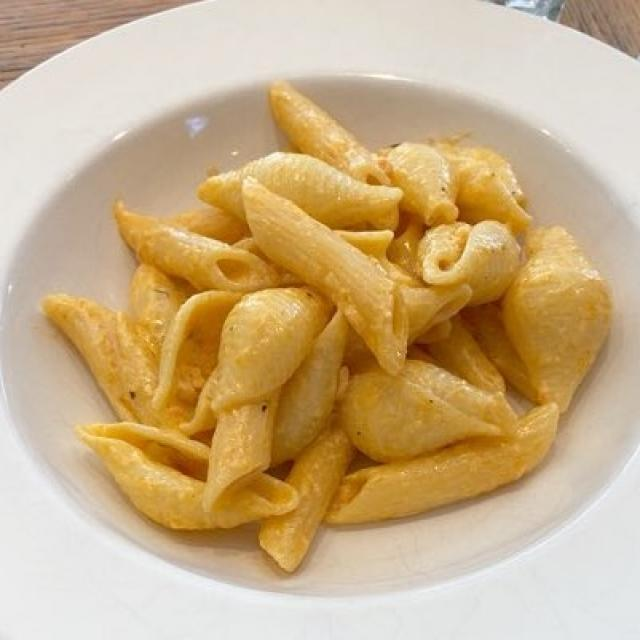pasta: (66, 98, 599, 561)
